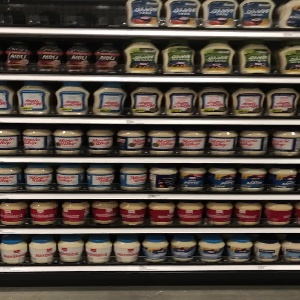void: (1, 1, 126, 30)
